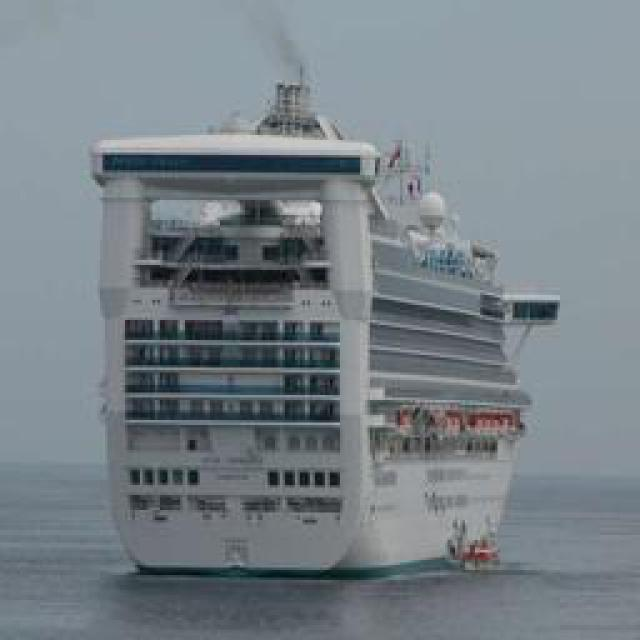Ship: (80, 89, 558, 589)
